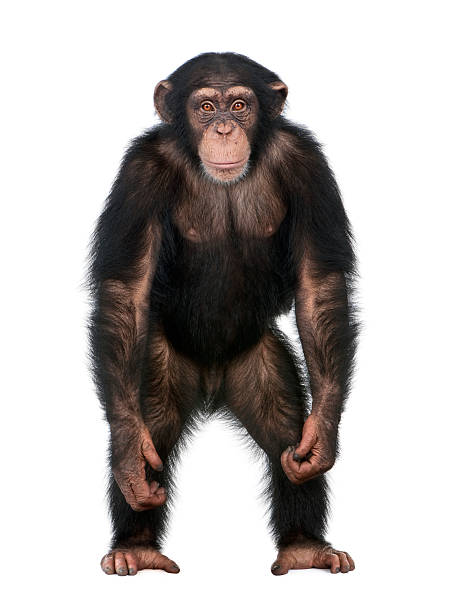chimpanzee: (136, 32, 294, 206)
